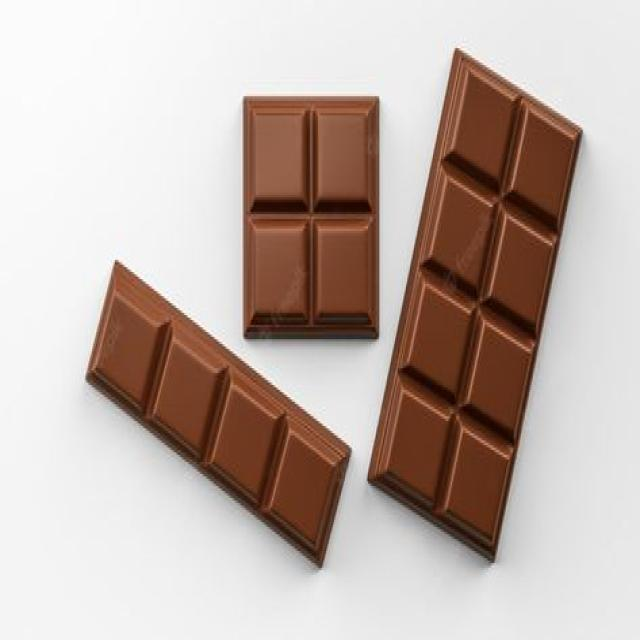Chocolate: (370, 47, 584, 564), (86, 260, 352, 568), (242, 93, 380, 342)
